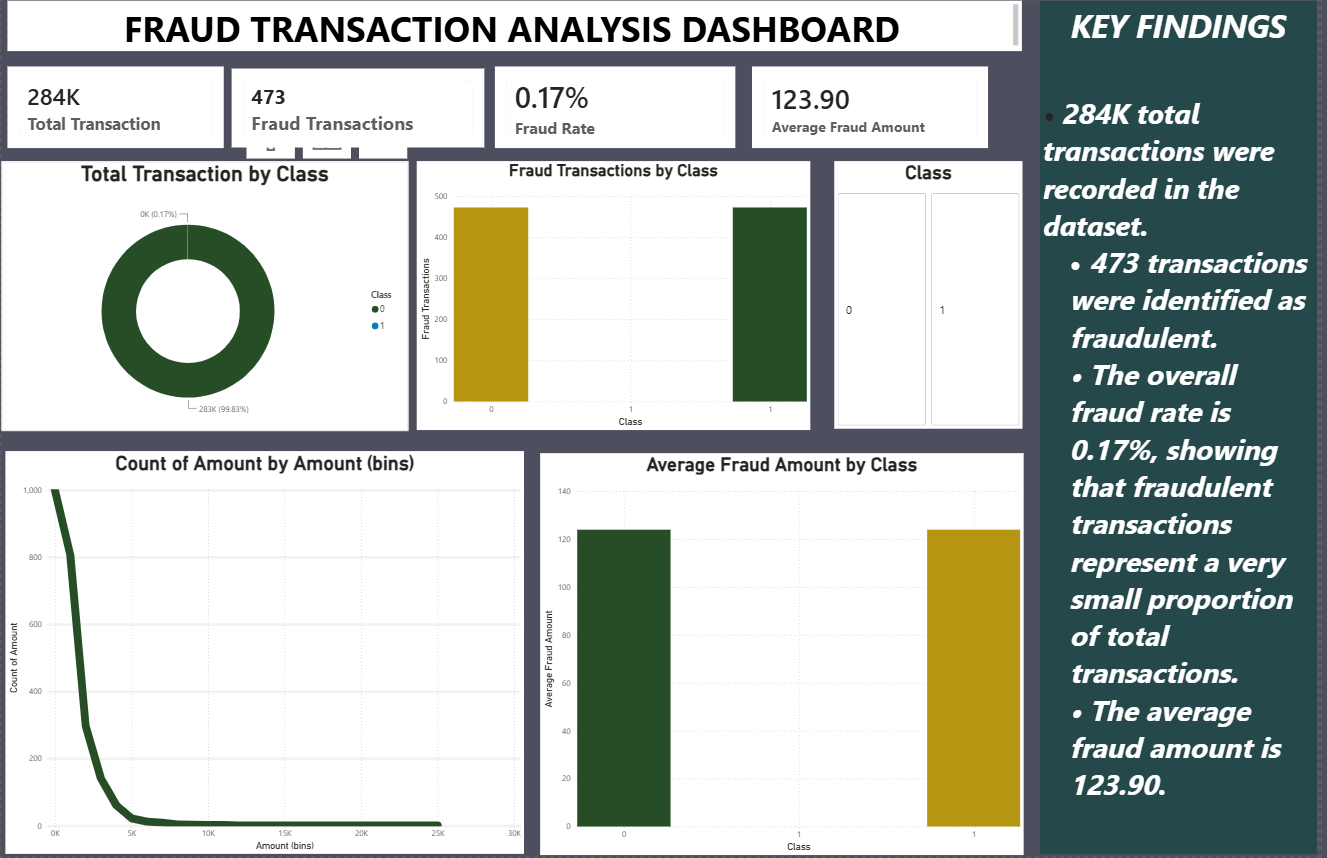

Layout of this report page (visuals, bound fields, positions):
{"tool":"powerbi","page":{"name":"Page 1","canvas":[2000,1300],"ordinal":0},"visuals":[{"type":"clusteredColumnChart","fields":{"Category":["cleaned_fraud.Class"],"Y":["cleaned_fraud.Fraud Transactions"]},"box":[631.7,243.9,597.9,408.3],"z":1000},{"type":"textbox","box":[10.3,0,1541,76.9],"z":2000},{"type":"cardVisual","fields":{"Data":["cleaned_fraud.Average Fraud Amount"]},"box":[1141.2,100,358.8,123.8],"z":3000},{"type":"donutChart","fields":{"Category":["cleaned_fraud.Class"],"Y":["cleaned_fraud.Total Transaction"]},"box":[0,243.9,618.8,408.3],"z":4000},{"type":"cardVisual","fields":{"Data":["cleaned_fraud.Total Transaction"]},"box":[8.8,100,328.8,123.8],"z":5000},{"type":"cardVisual","fields":{"Data":["cleaned_fraud.Fraud Transactions"]},"box":[351.2,103.8,383.8,120],"z":6000},{"type":"cardVisual","fields":{"Data":["cleaned_fraud.Fraud Rate"]},"box":[750,100,365,123.8],"z":7000},{"type":"lineChart","fields":{"Category":["cleaned_fraud.Amount (bins)"],"Y":["Count(cleaned_fraud.Amount)"]},"box":[7.3,685.4,787.8,612.2],"z":8000},{"type":"clusteredColumnChart","fields":{"Category":["cleaned_fraud.Class"],"Y":["cleaned_fraud.Average Fraud Amount"]},"box":[817.2,686.2,734.5,610.3],"z":9000},{"type":"textbox","box":[1579.3,0,420.7,1296.6],"z":9001},{"type":"advancedSlicerVisual","fields":{"Values":["cleaned_fraud.Class"]},"box":[1265.5,244.8,286.2,406.9],"z":9002}]}

Visuals, with their boxes in screenshot pixels (x1, y1, x2, y2), scaled from the page's 2000x1300 canvas onto the 1327x858 screenshot:
clusteredColumnChart - cleaned_fraud.Class x cleaned_fraud.Fraud Transactions: bbox(419, 161, 816, 430)
textbox: bbox(7, 0, 1029, 51)
cardVisual - cleaned_fraud.Average Fraud Amount: bbox(757, 66, 995, 148)
donutChart - cleaned_fraud.Class x cleaned_fraud.Total Transaction: bbox(0, 161, 411, 430)
cardVisual - cleaned_fraud.Total Transaction: bbox(6, 66, 224, 148)
cardVisual - cleaned_fraud.Fraud Transactions: bbox(233, 69, 488, 148)
cardVisual - cleaned_fraud.Fraud Rate: bbox(498, 66, 740, 148)
lineChart - cleaned_fraud.Amount (bins) x Count(cleaned_fraud.Amount): bbox(5, 452, 528, 856)
clusteredColumnChart - cleaned_fraud.Class x cleaned_fraud.Average Fraud Amount: bbox(542, 453, 1030, 856)
textbox: bbox(1048, 0, 1326, 856)
advancedSlicerVisual - cleaned_fraud.Class: bbox(840, 162, 1030, 430)
